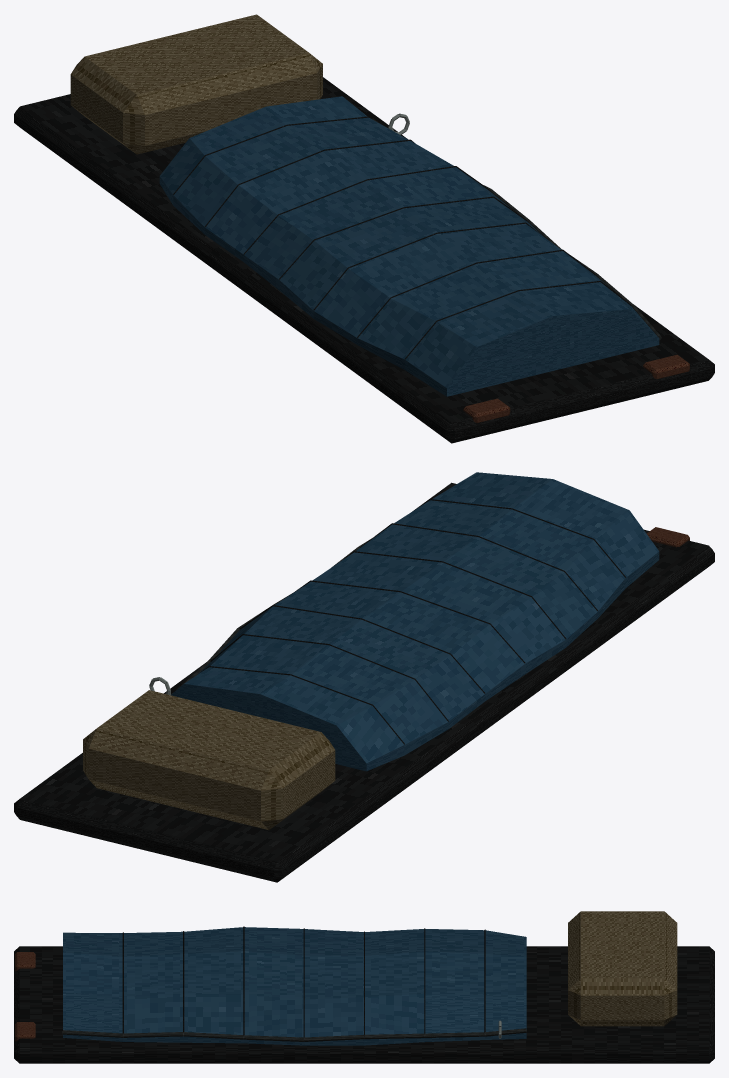
The model's file is level_trace_bedroll.glb.
3 renders of one model, top to bottom at view 1: azimuth 30°, elevation 25°; view 2: azimuth 150°, elevation 25°; view 3: azimuth 270°, elevation 25°, orthographic. The views are drawn at different scales.
Parts seen in each view (by area): view 1: level_trace_bedroll; view 2: level_trace_bedroll; view 3: level_trace_bedroll.
Part boxes in pixels (<box>): level_trace_bedroll: <box>14,14,714,443</box>; level_trace_bedroll: <box>14,472,714,882</box>; level_trace_bedroll: <box>14,911,714,1063</box>.
Bounding box in the file's own units: 0.66 × 0.194 × 1.86.
Materials: 6 (6 with a texture image).
